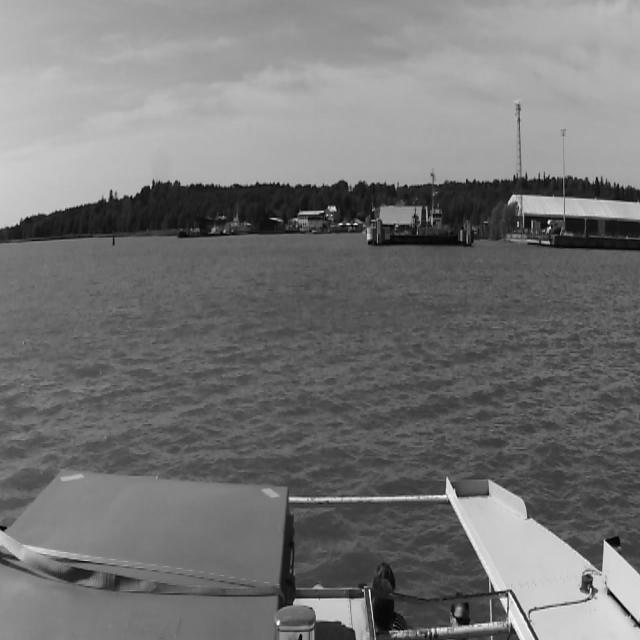buoy: (112, 231, 114, 245)
